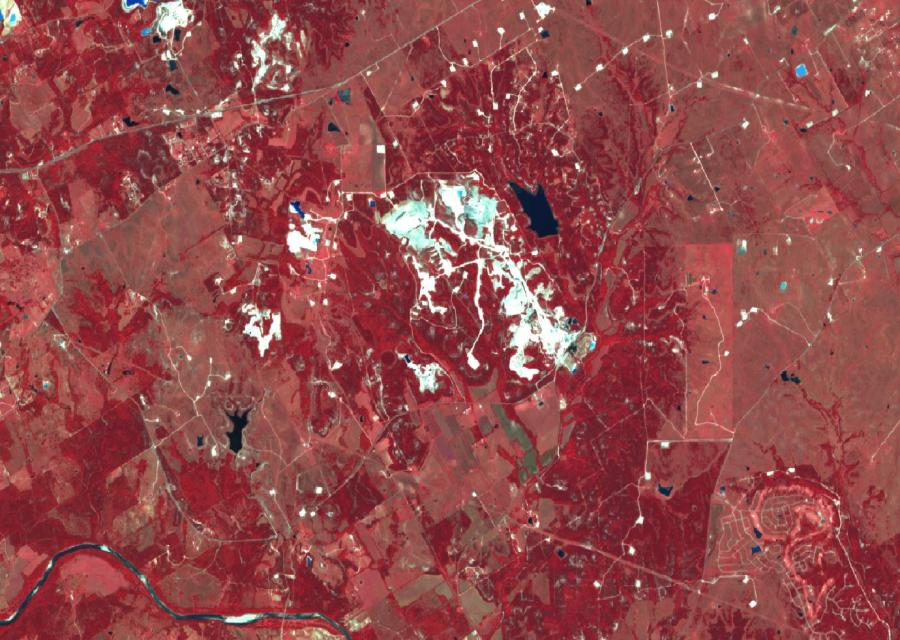Potential Lime Manufacturing Facility: (380, 176, 593, 394)
